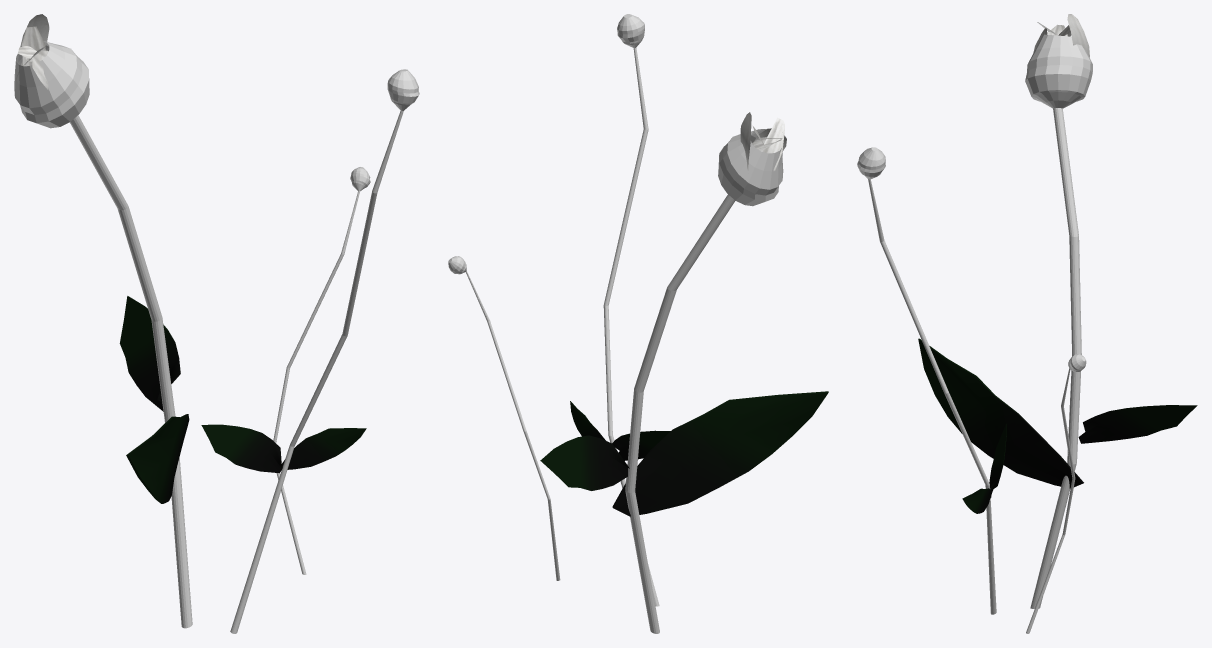
File: daisy_stage_01.FBX
The picture shows the model from 3 angles, left to right: view 1: azimuth 30°, elevation 25°; view 2: azimuth 150°, elevation 25°; view 3: azimuth 270°, elevation 25°; orthographic projection. The views are drawn at different scales.
Parts seen in each view (by area): view 1: Daisy01, Daisy002, Leaf02, Leaf01, Leaf003, Leaf004, Daisy03; view 2: Leaf01, Daisy01, Leaf02, Daisy002, Daisy03, Leaf003, Petal_Layer_01_03; view 3: Daisy01, Leaf01, Daisy002, Leaf02, Daisy03, Leaf003, Leaf004.
Part boxes in pixels (x1,y1,x2,y2): Daisy01: (14,41,192,628); Daisy002: (230,69,419,633); Leaf02: (119,296,180,411); Leaf01: (126,414,189,503); Leaf003: (201,424,282,473); Leaf004: (281,428,366,469); Daisy03: (273,167,370,574); Leaf01: (612,391,828,516); Daisy01: (625,129,783,633); Leaf02: (540,435,629,490); Daisy002: (603,14,659,606); Daisy03: (448,256,560,580); Leaf003: (612,430,670,460); Petal_Layer_01_03: (761,117,784,170); Daisy01: (1025,34,1092,608); Leaf01: (918,338,1083,488); Daisy002: (857,147,996,614); Leaf02: (1078,405,1197,443); Daisy03: (1026,354,1086,633); Leaf003: (989,423,1006,493); Leaf004: (962,488,991,513).
Bounding box in the file's own units: 12.11 × 11.43 × 20.09.
Materials: 2 (1 with a texture image).
